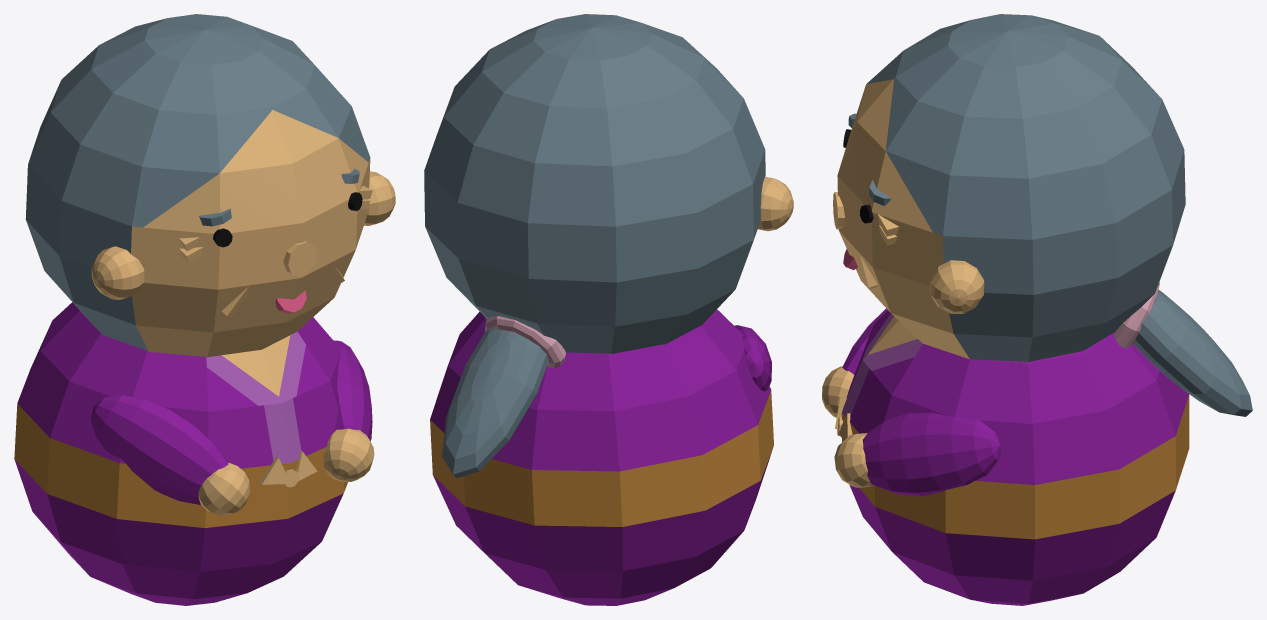
3 views of the same model, side by side, from view 1: azimuth 30°, elevation 25°; view 2: azimuth 150°, elevation 25°; view 3: azimuth 270°, elevation 25° (orthographic).
Visible parts, largest first — view 1: node_MeshObject790051840-PolyPaper16; view 2: node_MeshObject790051840-PolyPaper16; view 3: node_MeshObject790051840-PolyPaper16.
Part boxes in pixels (bbox=[...]): node_MeshObject790051840-PolyPaper16: bbox=[14, 14, 395, 605]; node_MeshObject790051840-PolyPaper16: bbox=[424, 14, 793, 605]; node_MeshObject790051840-PolyPaper16: bbox=[822, 14, 1252, 605].
Size of the model in its own units: 0.2041 by 0.3344 by 0.2305.
